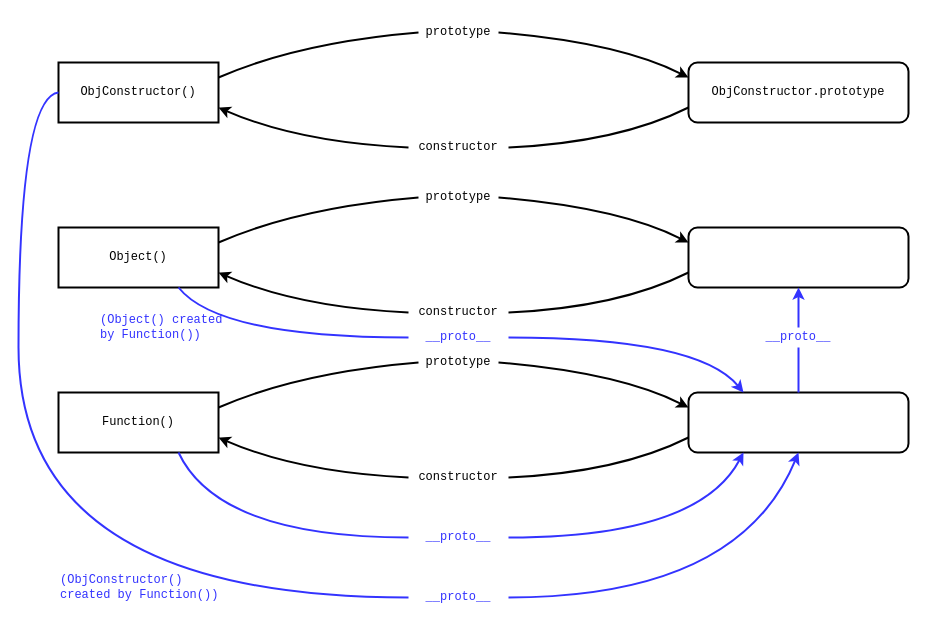
Image size: 926x624. Some labels were removed from this diagram. Here are the shapes that lost their labels. From the top down, the centre of each, then its label:
At point (798, 257): "Object.prototype".
At point (798, 422): "Function.prototype".
